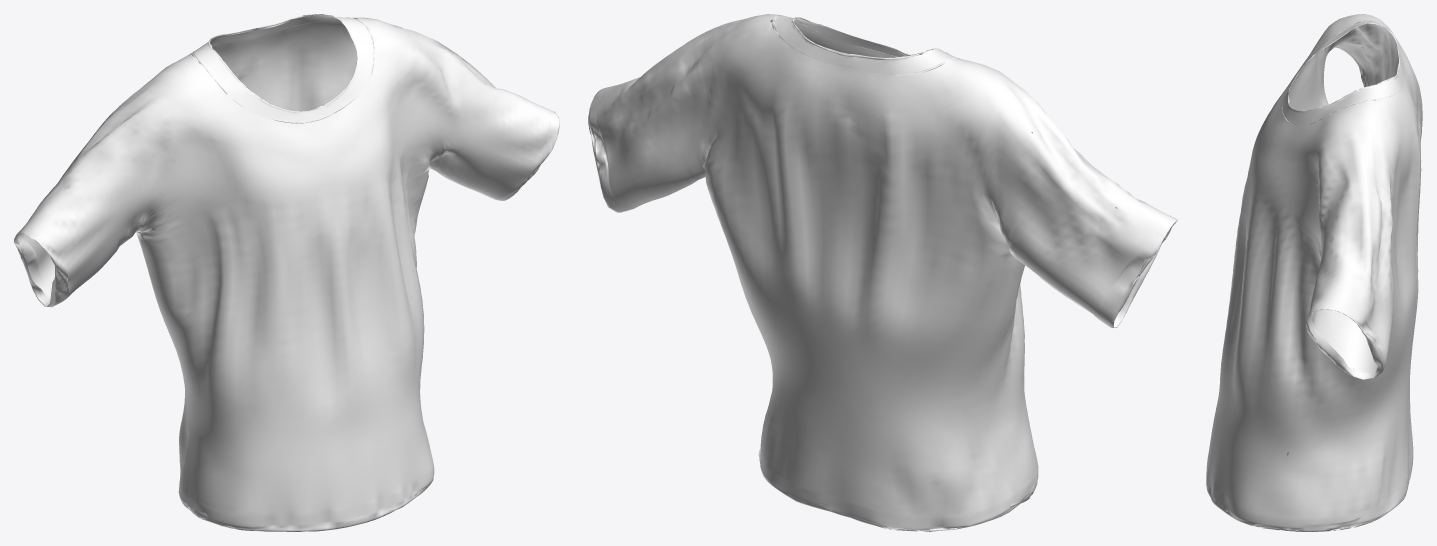
File: Petite_Tshirt_M.glb
3 renders of one model, left to right at view 1: azimuth 30°, elevation 25°; view 2: azimuth 150°, elevation 25°; view 3: azimuth 270°, elevation 25°, orthographic. The views are drawn at different scales.
Parts seen in each view (by area): view 1: TShirt_for_Genesis.008; view 2: TShirt_for_Genesis.008; view 3: TShirt_for_Genesis.008.
Boxes of the visible parts, x1,y1,x2,y2 form: TShirt_for_Genesis.008: (14,14,559,531); TShirt_for_Genesis.008: (588,14,1177,531); TShirt_for_Genesis.008: (1206,14,1422,531).
Bounding box in the file's own units: 16.74 × 13.11 × 5.98.
Materials: 1 (1 with a texture image).
